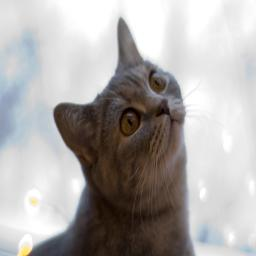catnose: (155, 97, 171, 119)
